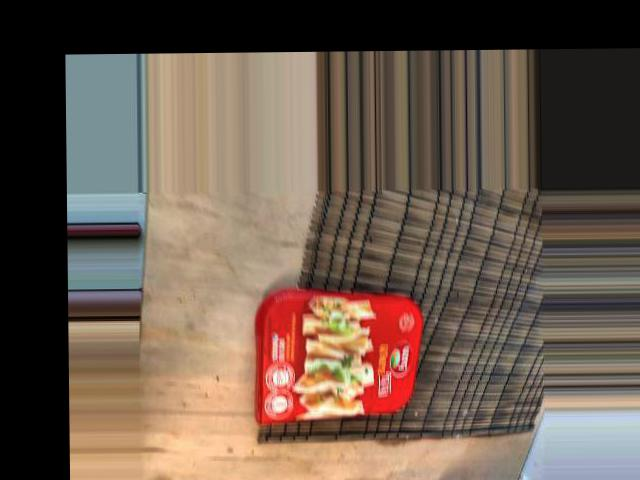cheese: (306, 185, 437, 369)
